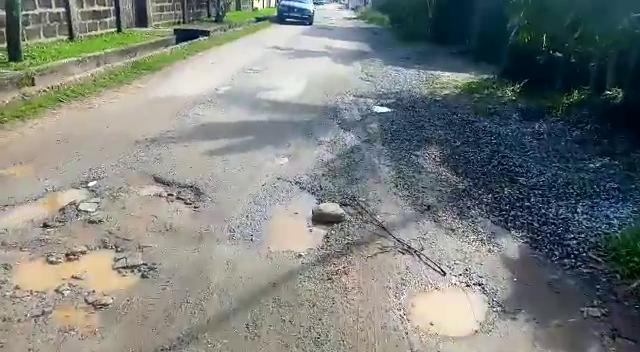pothole: (5, 244, 156, 294), (403, 282, 490, 341), (2, 181, 103, 230), (264, 187, 333, 258), (132, 174, 201, 211)
